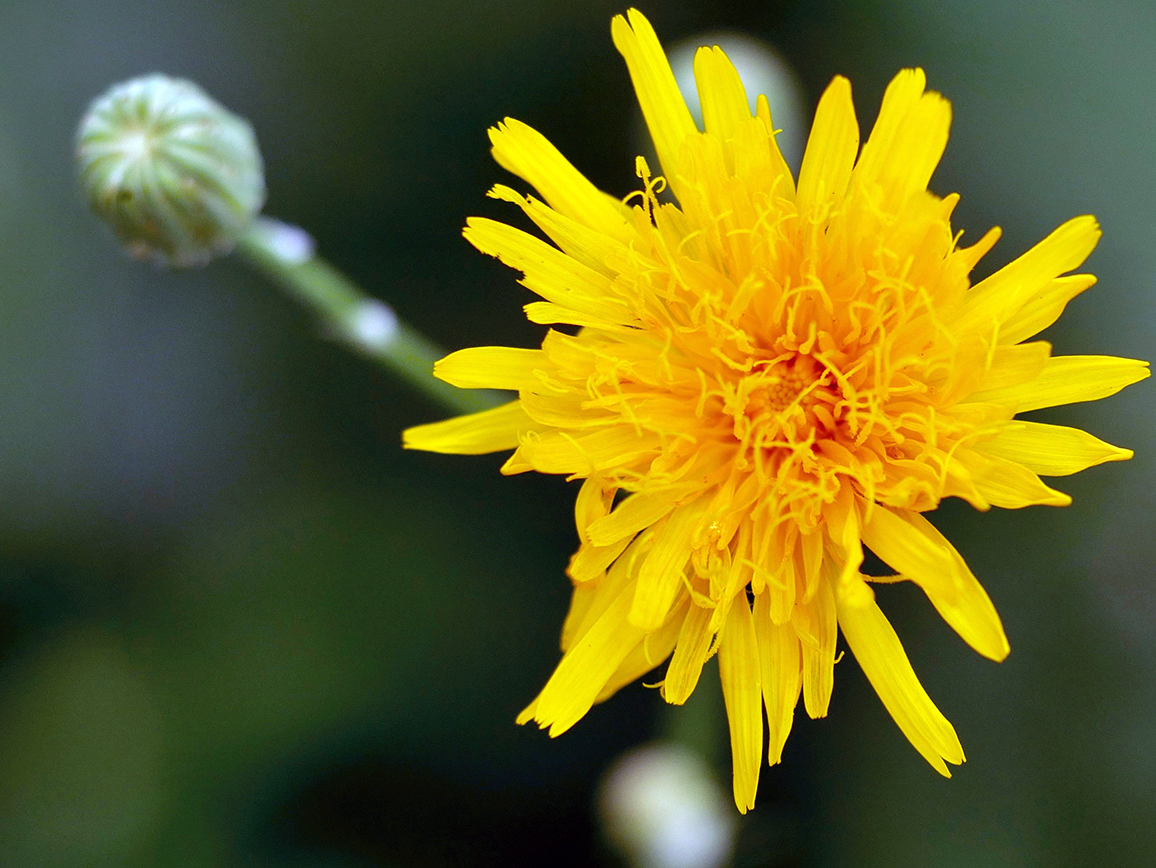dandelion: (436, 55, 1113, 792)
